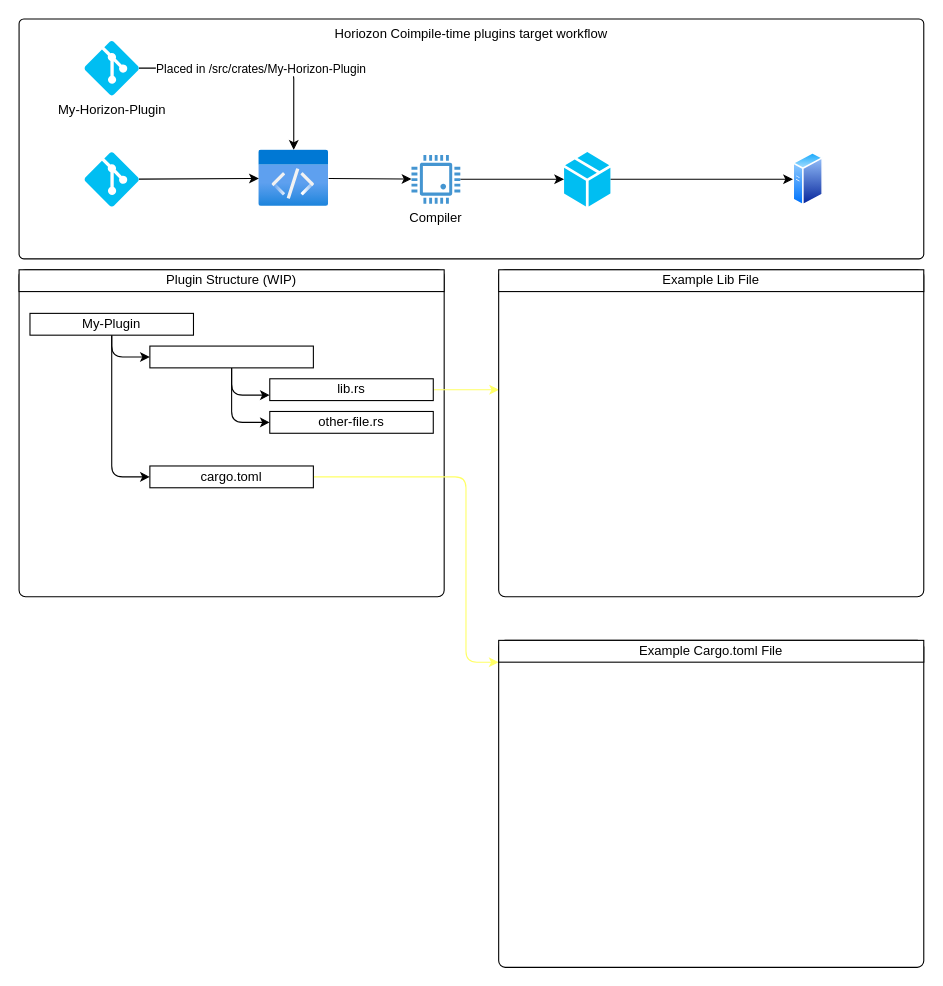
Some shapes in this 943 by 986 pixel diagram are drawn without their labels. Each missing label, with the centre of its shape:
Horizon Binary Executable: pixel 587 179
Horizon Game Server Instance: pixel 807 179
Horizon-Community-Edition: pixel 111 179
Open Via Editor: pixel 293 177
Src: pixel 231 356
